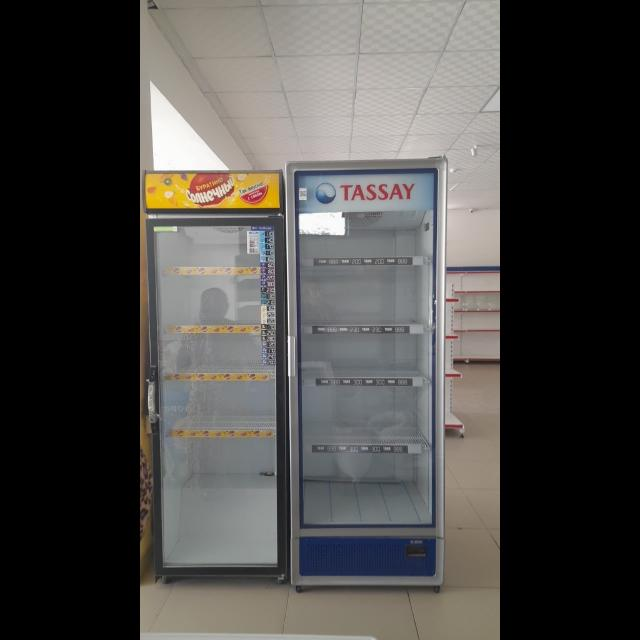Cooling-Display: (284, 156, 448, 584)
